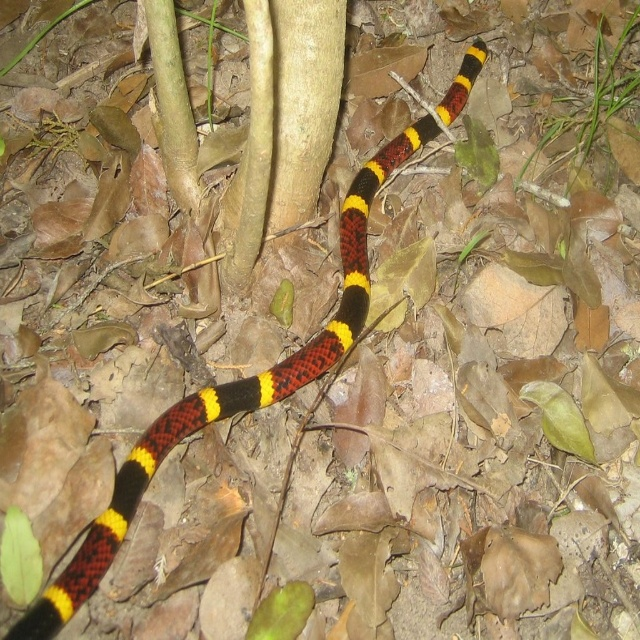Snake: (1, 41, 487, 640)
